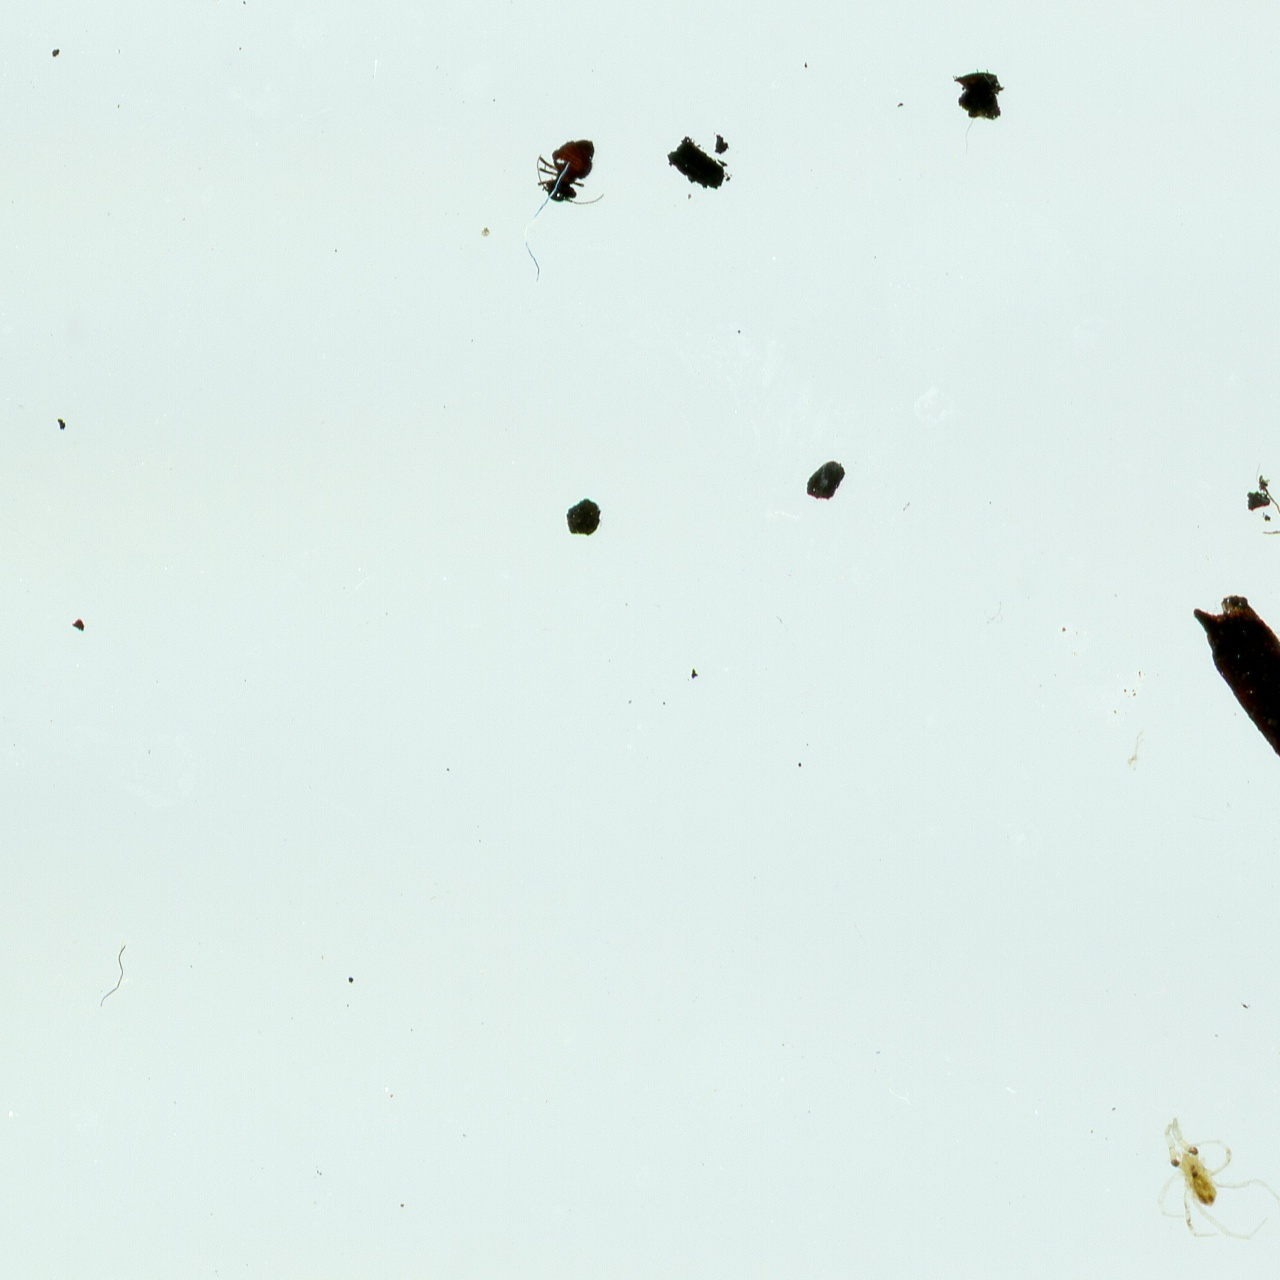arthropod: (1144, 1107, 1280, 1257), (532, 137, 608, 211), (0, 1141, 13, 1253)
